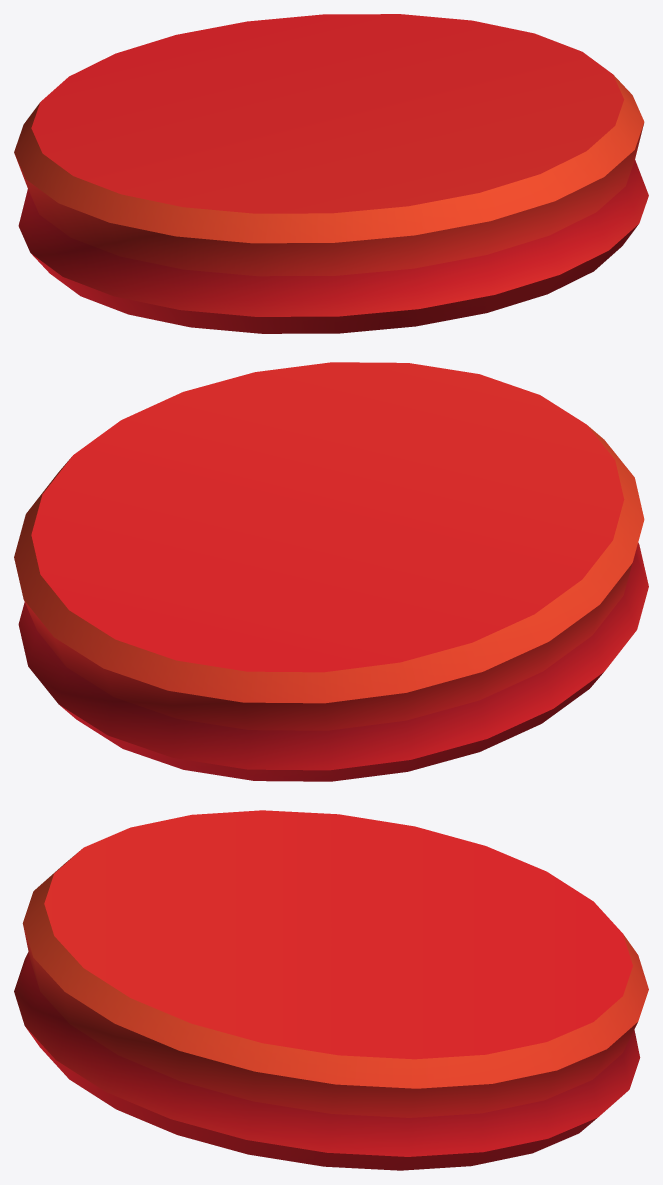
The model's file is ActionFigure_Head_D_Headband.obj.
3 views of the same model, one above another, from view 1: azimuth 30°, elevation 25°; view 2: azimuth 150°, elevation 25°; view 3: azimuth 270°, elevation 25° (orthographic). The views are drawn at different scales.
Visible parts, largest first — view 1: ActionFigure_Head_D_Headband; view 2: ActionFigure_Head_D_Headband; view 3: ActionFigure_Head_D_Headband.
Part boxes in pixels (<box>): ActionFigure_Head_D_Headband: <box>14,14,648,333</box>; ActionFigure_Head_D_Headband: <box>14,362,648,781</box>; ActionFigure_Head_D_Headband: <box>14,810,648,1170</box>.
Size of the model in its own units: 1.06 by 0.3341 by 1.11.
Materials: 1 (1 with a texture image).
